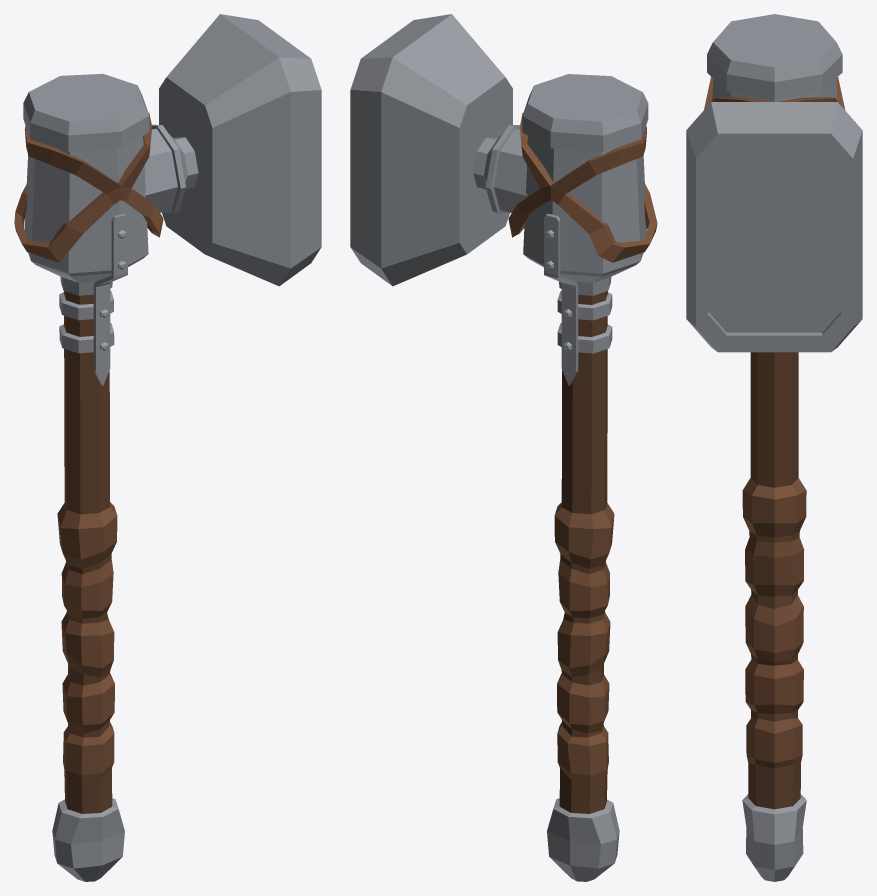
File: Hammer_Small.glb
3 views of the same model, side by side, from view 1: azimuth 30°, elevation 25°; view 2: azimuth 150°, elevation 25°; view 3: azimuth 270°, elevation 25° (orthographic). The views are drawn at different scales.
Visible parts, largest first — view 1: Steel, LightWood, DarkWood; view 2: Steel, LightWood, DarkWood; view 3: Steel, LightWood, DarkWood.
Part boxes in pixels (x1,y1,x2,y2): Steel: [23, 14, 321, 881]; LightWood: [14, 112, 163, 782]; DarkWood: [64, 291, 112, 813]; Steel: [350, 14, 648, 881]; LightWood: [508, 113, 657, 782]; DarkWood: [559, 291, 607, 813]; Steel: [686, 14, 862, 881]; LightWood: [704, 77, 844, 768]; DarkWood: [748, 352, 800, 809].
Bounding box in the file's own units: 1.49 × 4.33 × 0.8057.
